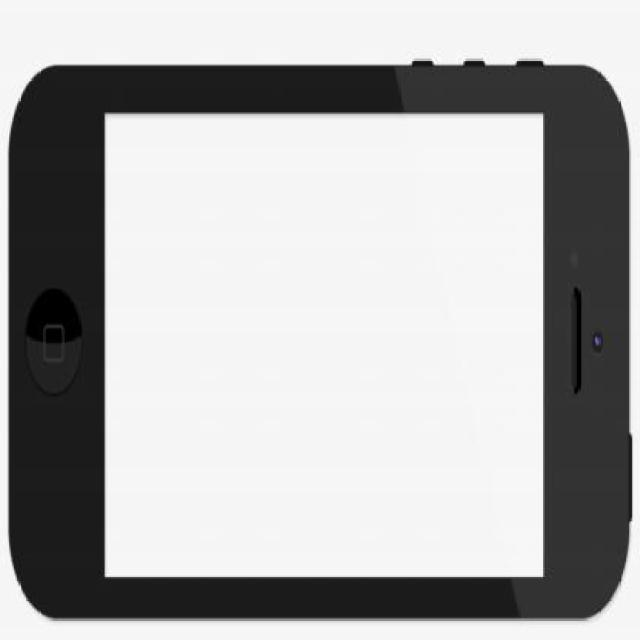phone: (9, 64, 634, 624)
